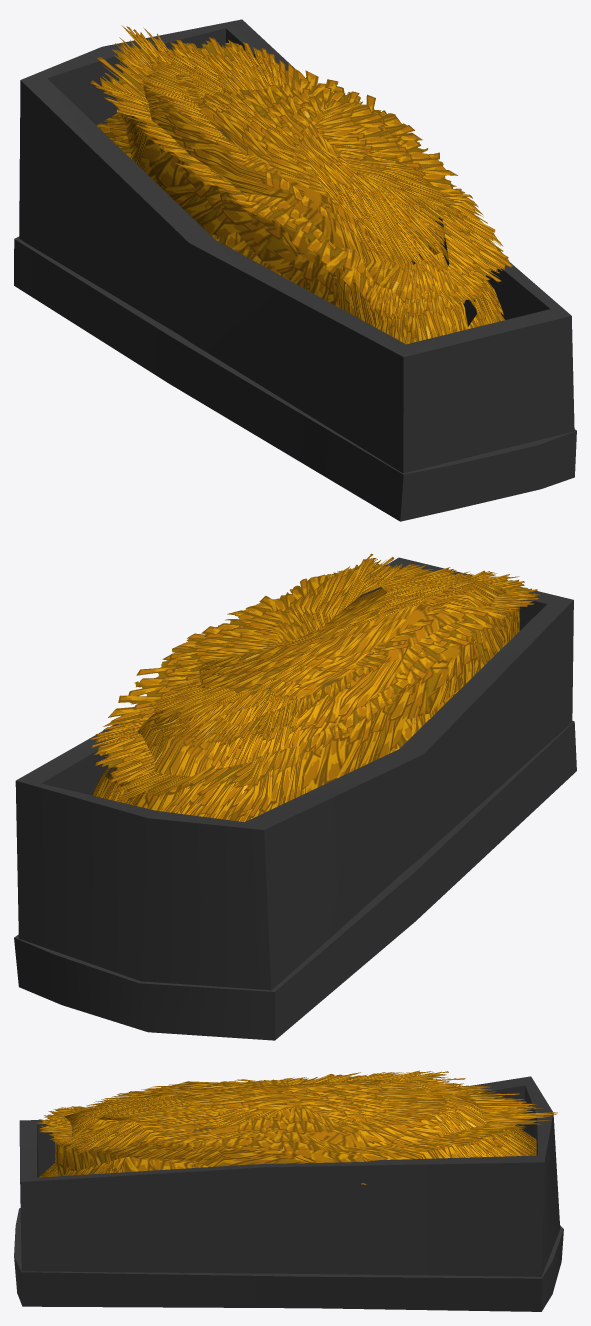
Rendered from SM_PROP_trough_01.FBX.
3 views of the same model, one above another, from view 1: azimuth 30°, elevation 25°; view 2: azimuth 150°, elevation 25°; view 3: azimuth 270°, elevation 25° (orthographic). The views are drawn at different scales.
Visible parts, largest first — view 1: SM_PROP_trough_01; view 2: SM_PROP_trough_01; view 3: SM_PROP_trough_01.
Part boxes in pixels (<box>): SM_PROP_trough_01: <box>14,19,576,521</box>; SM_PROP_trough_01: <box>14,553,576,1040</box>; SM_PROP_trough_01: <box>14,1070,563,1311</box>.
Size of the model in its own units: 104 by 261 by 92.4.
